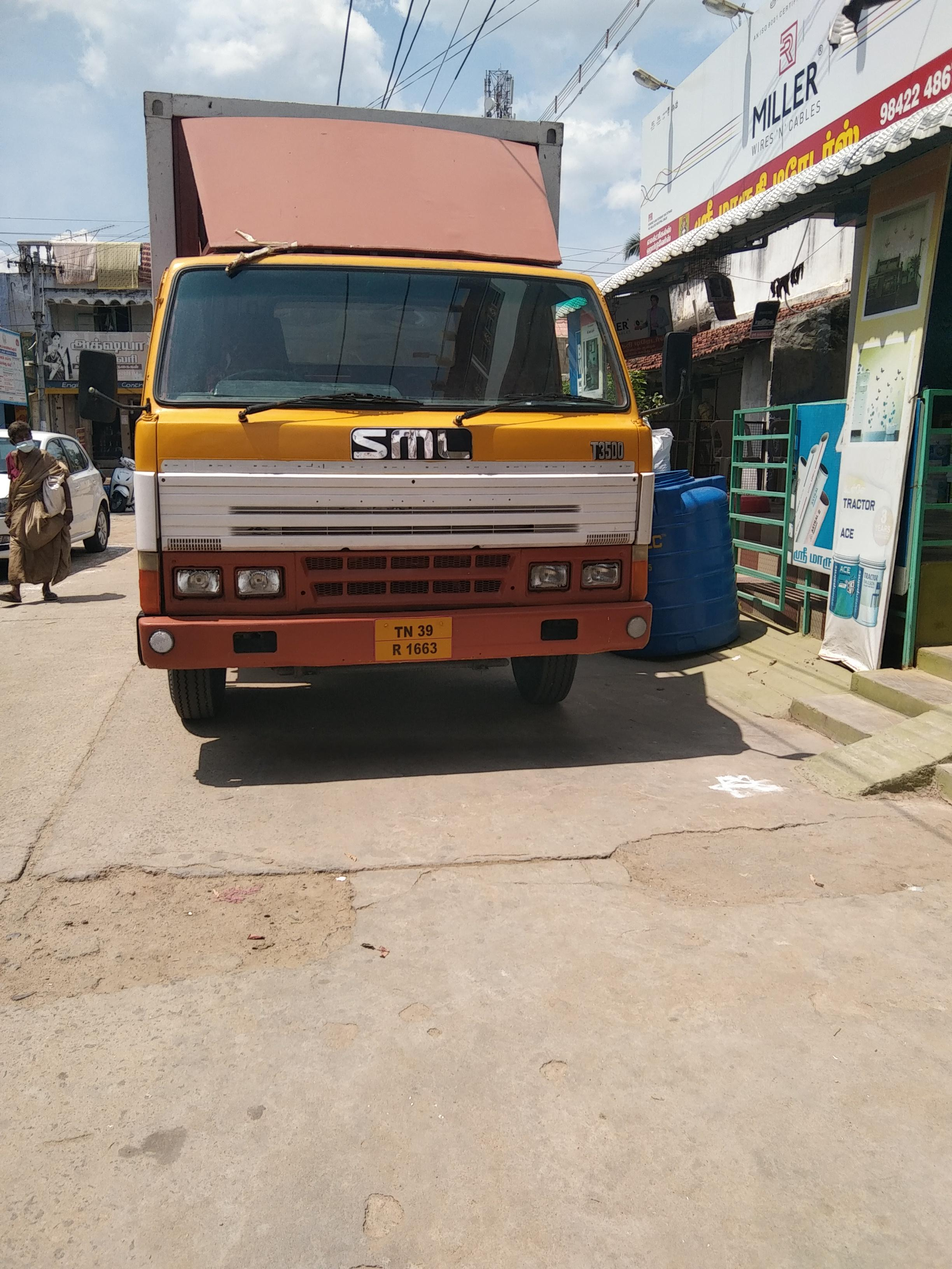Non-emergency: (110, 111, 727, 741)
